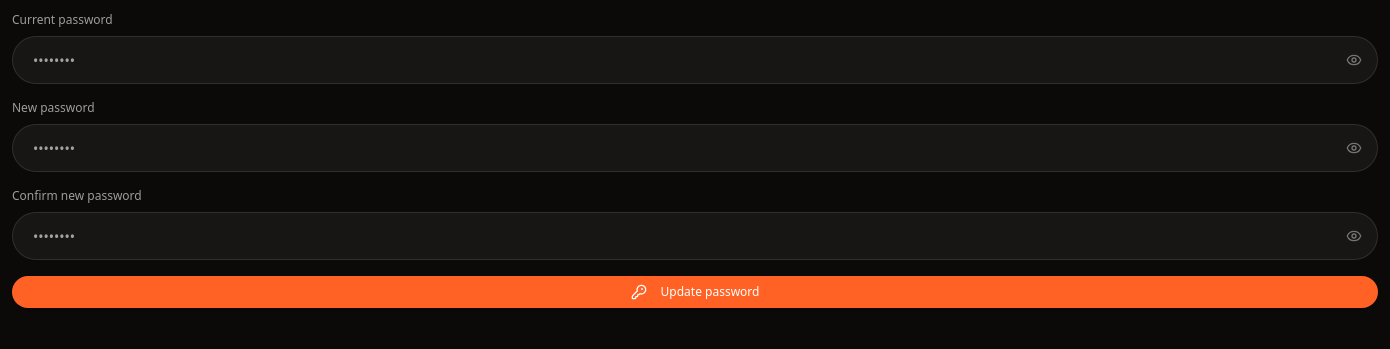
PasswordChangeForm surfaces verbatim copy + isPending reset + field error className › renders the verbatim "Required" error for the current-password field when only it is empty
Type "NewPass1!LongEnough" into the password field labelled "New password". click: (695, 148)
box: [12, 124, 1378, 172]
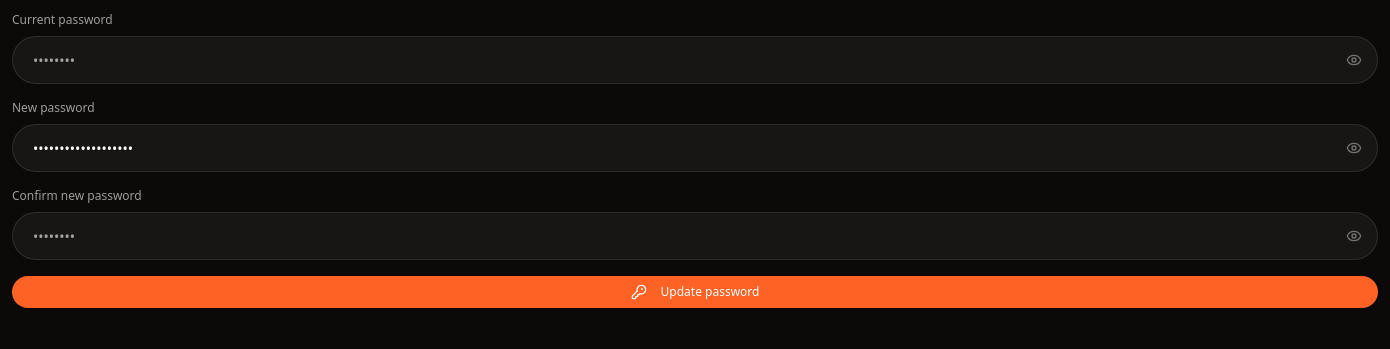
Type "NewPass1!LongEnough" into the password field labelled "Confirm new password". click: (695, 236)
box: [12, 212, 1378, 260]
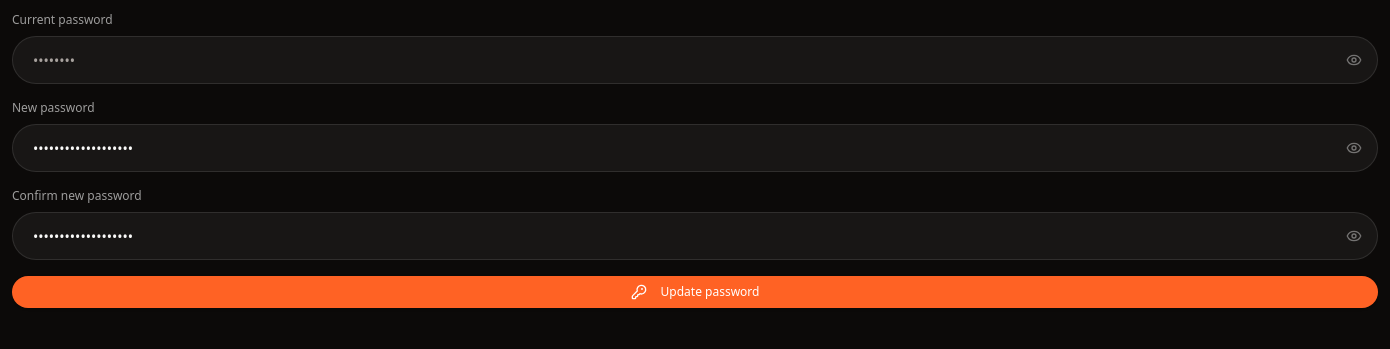
Click the button "Update password". click: (695, 292)
box: [12, 276, 1378, 308]
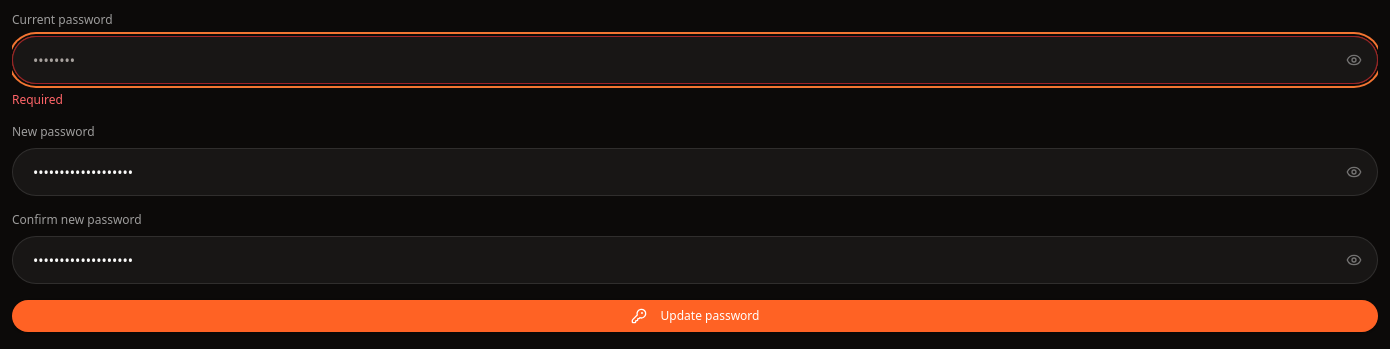
expect the text "Required" is shown: met, box [12, 91, 63, 108]
